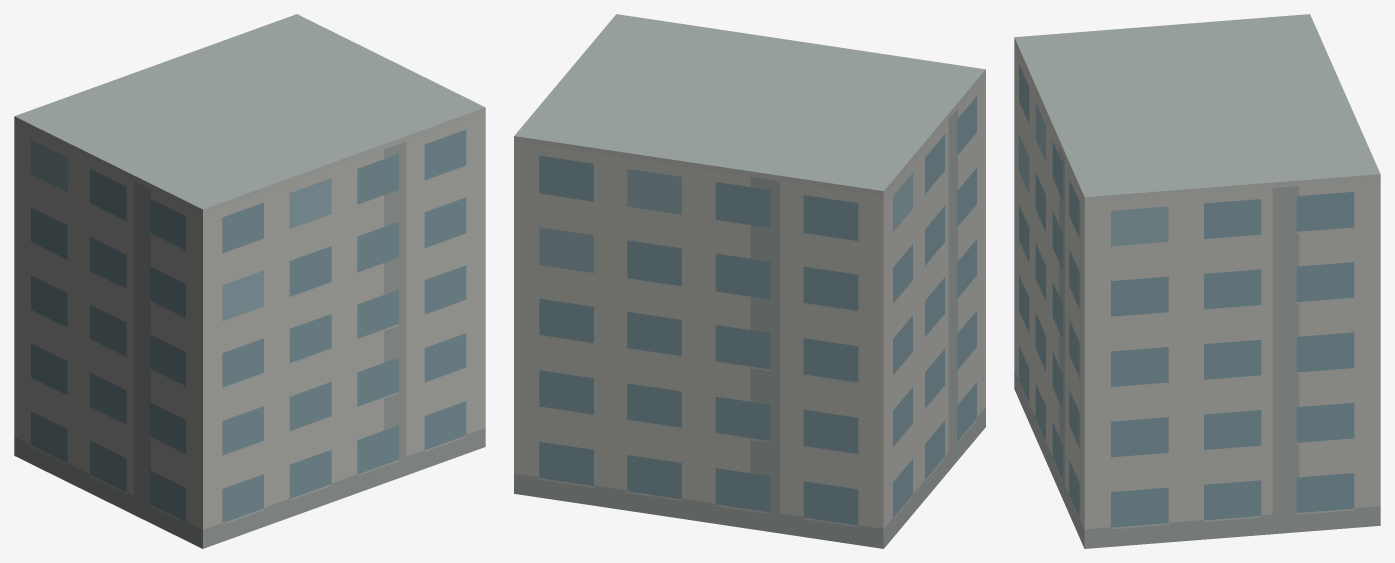
The model's file is residential-5a86a0dc-7db6-44a0-bdb8-582c1a04c173.glb.
3 renders of one model, left to right at view 1: azimuth 30°, elevation 25°; view 2: azimuth 150°, elevation 25°; view 3: azimuth 270°, elevation 25°, orthographic. The views are drawn at different scales.
Parts seen in each view (by area): view 1: residential-5a86a0dc-7db6-44a0-bdb8-582c1a04c173.tmp; view 2: residential-5a86a0dc-7db6-44a0-bdb8-582c1a04c173.tmp; view 3: residential-5a86a0dc-7db6-44a0-bdb8-582c1a04c173.tmp.
Boxes of the visible parts, x1=… form: residential-5a86a0dc-7db6-44a0-bdb8-582c1a04c173.tmp: x1=14, y1=14, x2=485, y2=548; residential-5a86a0dc-7db6-44a0-bdb8-582c1a04c173.tmp: x1=514, y1=14, x2=985, y2=548; residential-5a86a0dc-7db6-44a0-bdb8-582c1a04c173.tmp: x1=1014, y1=14, x2=1380, y2=548.
Size of the model in its own units: 17.05 by 15.25 by 14.41.
